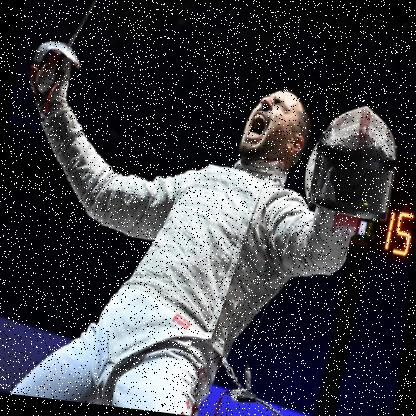fencer: (0, 24, 412, 415)
